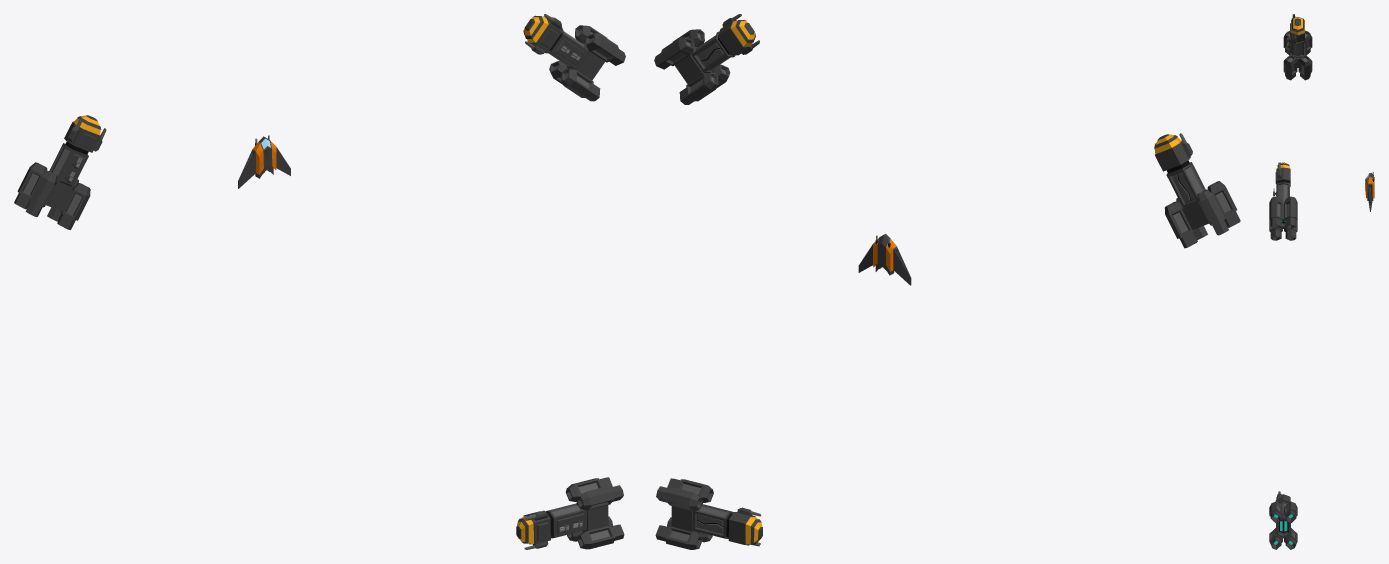
The picture shows the model from 3 angles, left to right: view 1: azimuth 30°, elevation 25°; view 2: azimuth 150°, elevation 25°; view 3: azimuth 270°, elevation 25°; orthographic projection. The views are drawn at different scales.
Visible parts, largest first — view 1: enemy, enemy.002, enemy.001, fighter; view 2: enemy, enemy.002, enemy.001, fighter; view 3: enemy.001, enemy, enemy.002, fighter.
Part boxes in pixels (x1,y1,x2,y2): enemy: (14, 115, 106, 229); enemy.002: (516, 477, 624, 549); enemy.001: (523, 14, 625, 101); fighter: (238, 135, 290, 188); enemy: (1154, 133, 1240, 248); enemy.002: (655, 478, 762, 549); enemy.001: (654, 14, 759, 104); fighter: (858, 233, 911, 285); enemy.001: (1269, 162, 1297, 240); enemy: (1283, 14, 1312, 80); enemy.002: (1269, 491, 1297, 549); fighter: (1365, 172, 1374, 211).
Bounding box in the file's own units: 57.15 × 50.4 × 13.18.
Materials: 4 (4 with a texture image).
